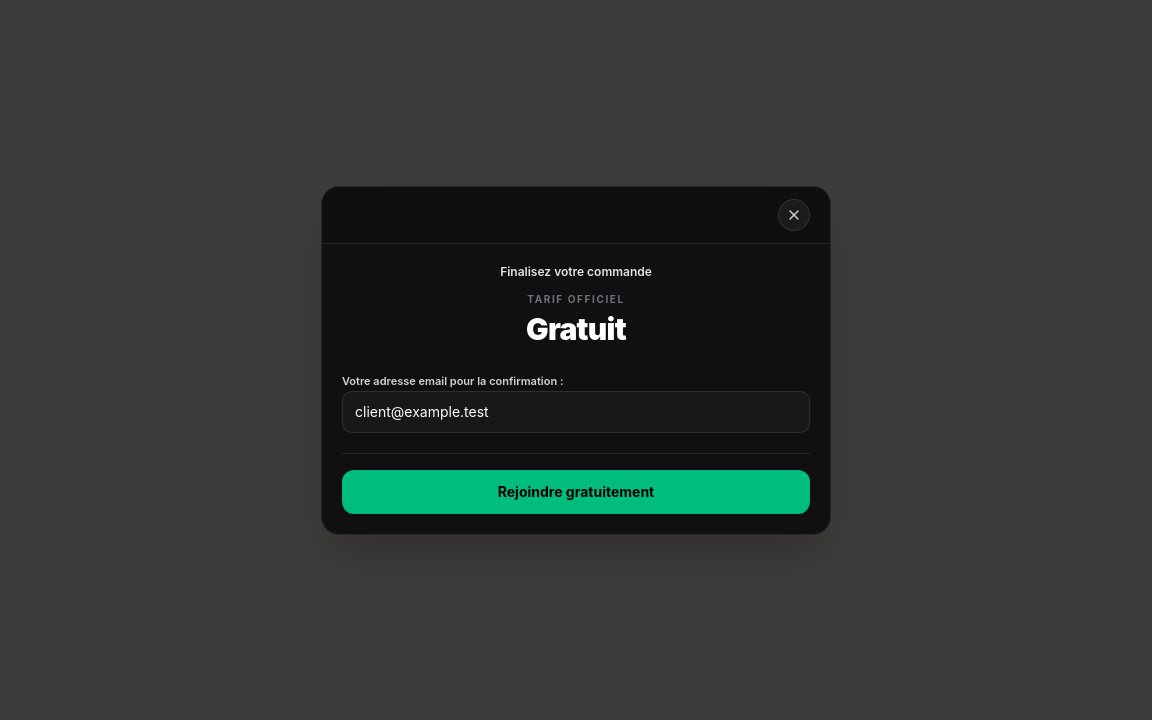
Test: temporary free checkout › completes the free checkout and grants the offer without a payment step
Later steps or results of the test are not shown.
Expected: the text "Gratuit" is shown, left=526, top=310, right=626, bottom=346
What coordinates should you click on to do the following:
click the button "Rejoindre gratuitement"
I would click on:
 (576, 492)
Its box is left=342, top=470, right=810, bottom=514.
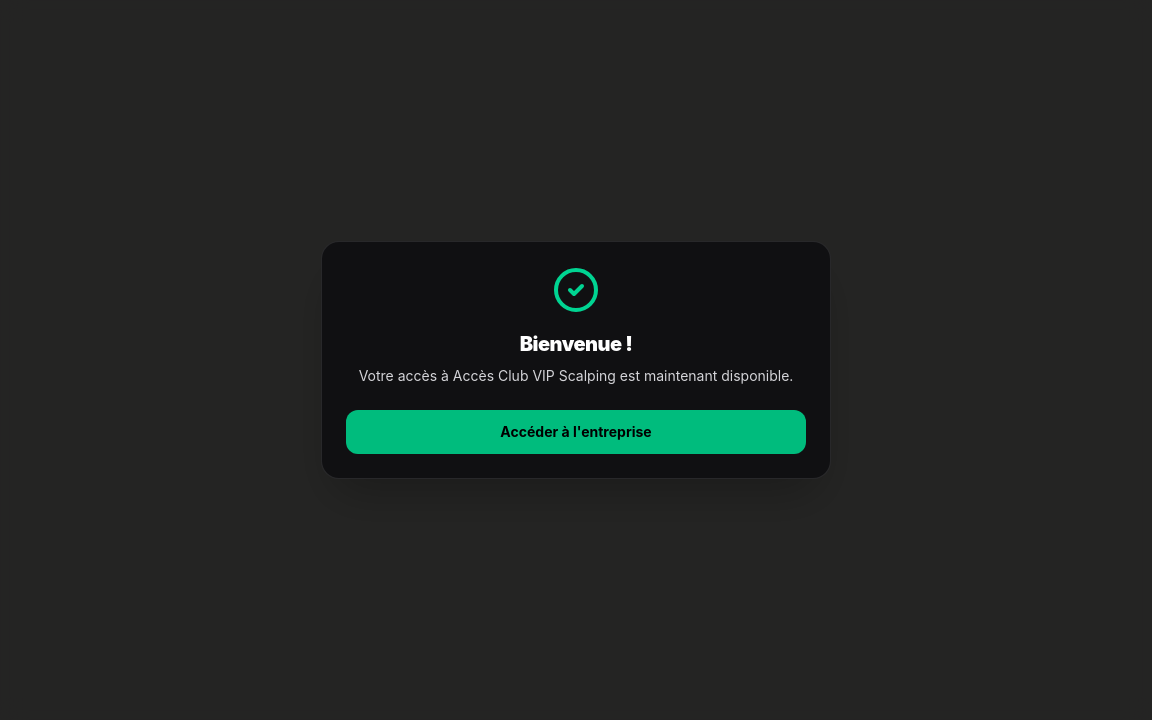
Expected: the heading "Bienvenue !" is shown, left=520, top=332, right=632, bottom=356
Expected: the text "Votre accès à Accès Club VIP Scalping est maintenant disponible." is shown, left=346, top=366, right=806, bottom=386
